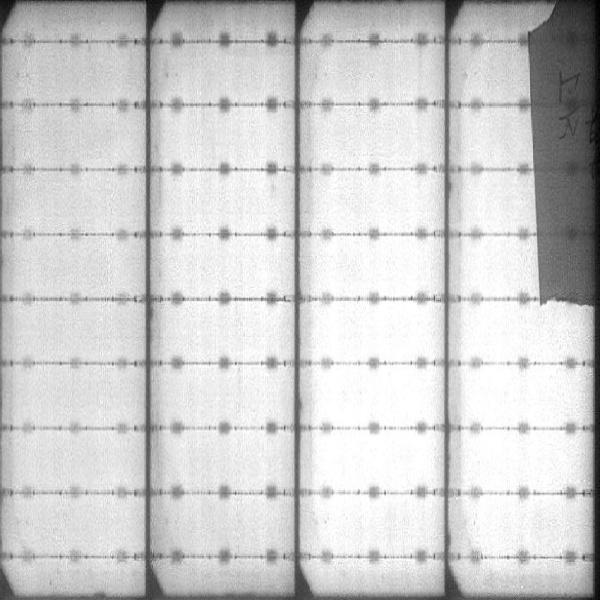broken: (527, 1, 596, 309)
